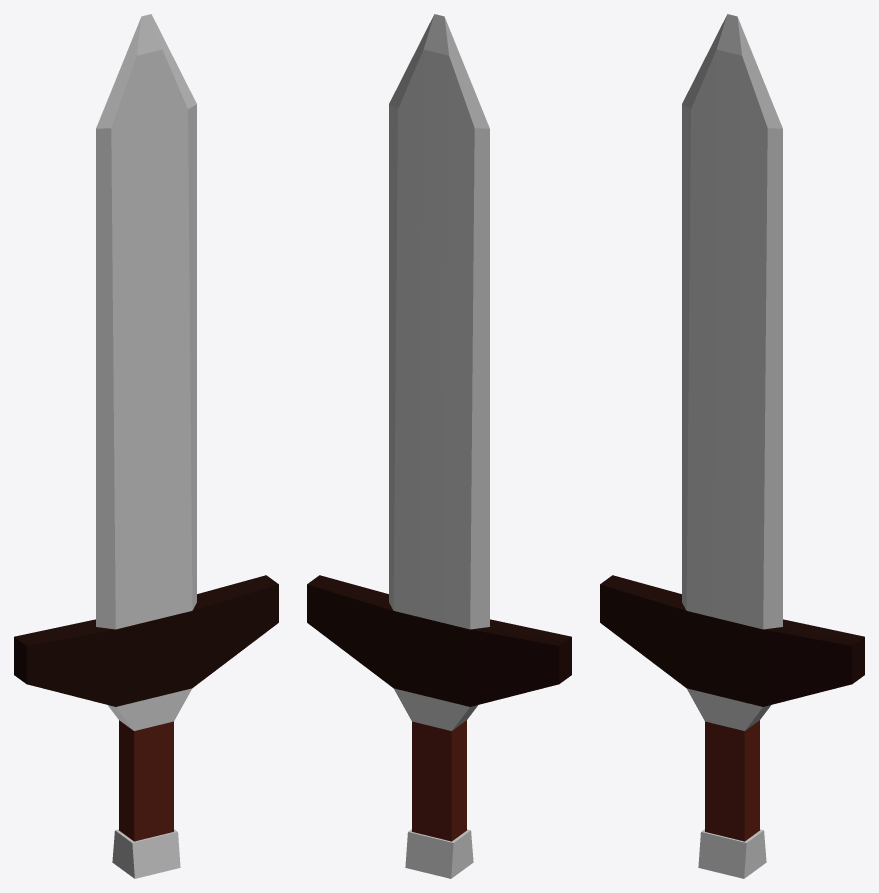
The model's file is Sword.obj.
The picture shows the model from 3 angles, left to right: view 1: azimuth 30°, elevation 25°; view 2: azimuth 150°, elevation 25°; view 3: azimuth 330°, elevation 25°; orthographic projection.
Parts seen in each view (by area): view 1: Cube_Cube_Material, Cube_Cube_Material.002, Cube_Cube_Material.001; view 2: Cube_Cube_Material, Cube_Cube_Material.002, Cube_Cube_Material.001; view 3: Cube_Cube_Material, Cube_Cube_Material.002, Cube_Cube_Material.001.
Part boxes in pixels (x1=…): Cube_Cube_Material: x1=96, y1=14, x2=196, y2=878; Cube_Cube_Material.002: x1=14, y1=575, x2=278, y2=706; Cube_Cube_Material.001: x1=119, y1=720, x2=173, y2=841; Cube_Cube_Material: x1=389, y1=14, x2=489, y2=878; Cube_Cube_Material.002: x1=307, y1=575, x2=571, y2=706; Cube_Cube_Material.001: x1=412, y1=720, x2=466, y2=841; Cube_Cube_Material: x1=682, y1=14, x2=782, y2=878; Cube_Cube_Material.002: x1=600, y1=575, x2=864, y2=706; Cube_Cube_Material.001: x1=705, y1=720, x2=759, y2=841.
Bounding box in the file's own units: 2.19 × 7.06 × 0.3384.
